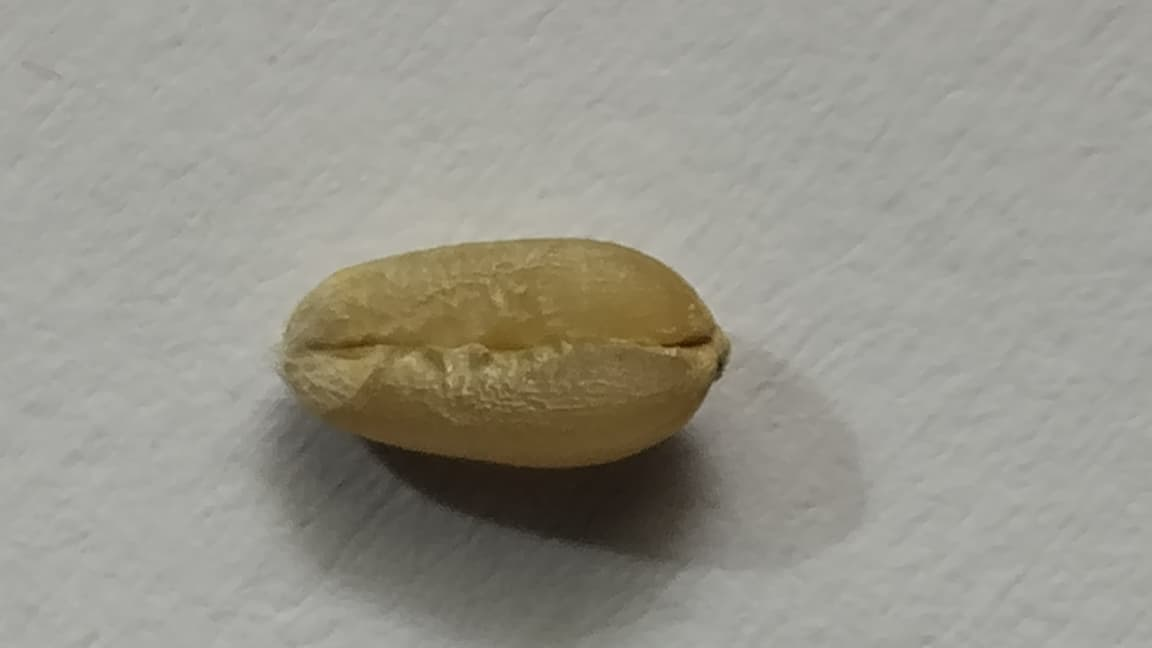healthy: (281, 238, 728, 466)
